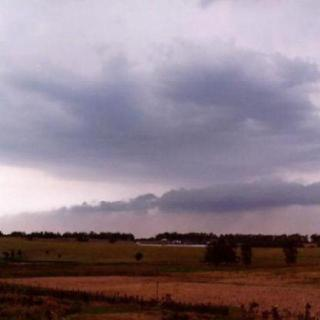Stratus: (0, 13, 320, 225)
